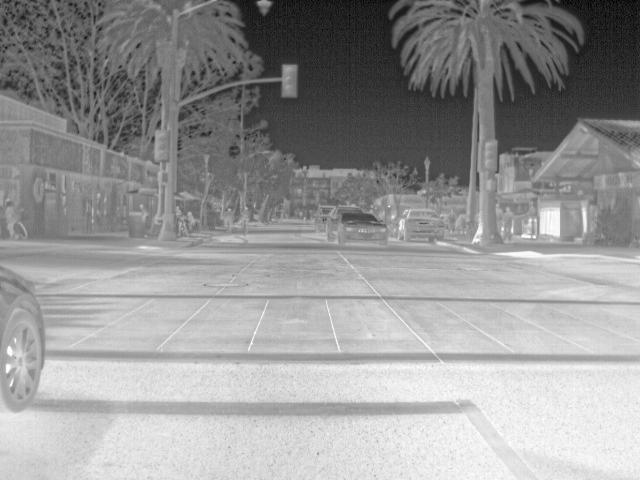car: (1, 264, 46, 412), (329, 211, 389, 246), (396, 208, 446, 242), (325, 205, 348, 241), (387, 205, 406, 238), (314, 204, 330, 232)
person: (5, 198, 20, 240), (502, 204, 517, 241), (493, 202, 503, 232), (448, 208, 458, 234), (526, 198, 539, 218), (136, 202, 149, 220), (240, 204, 253, 222), (186, 210, 196, 232), (222, 206, 234, 222), (176, 206, 184, 216)
